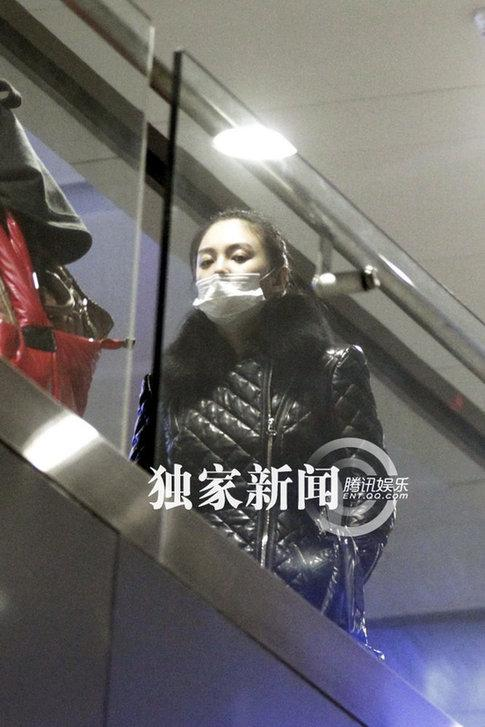WRONG: (192, 239, 271, 318)
